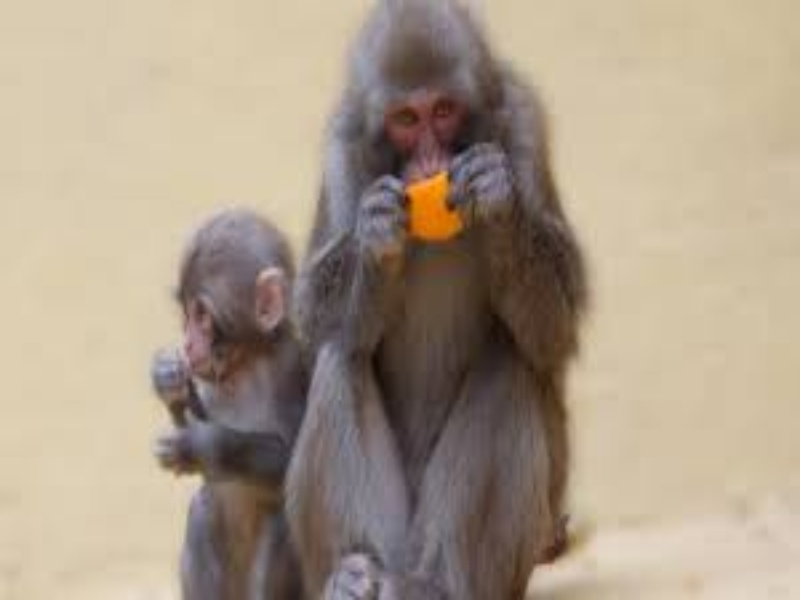monkey: (152, 3, 593, 600)
